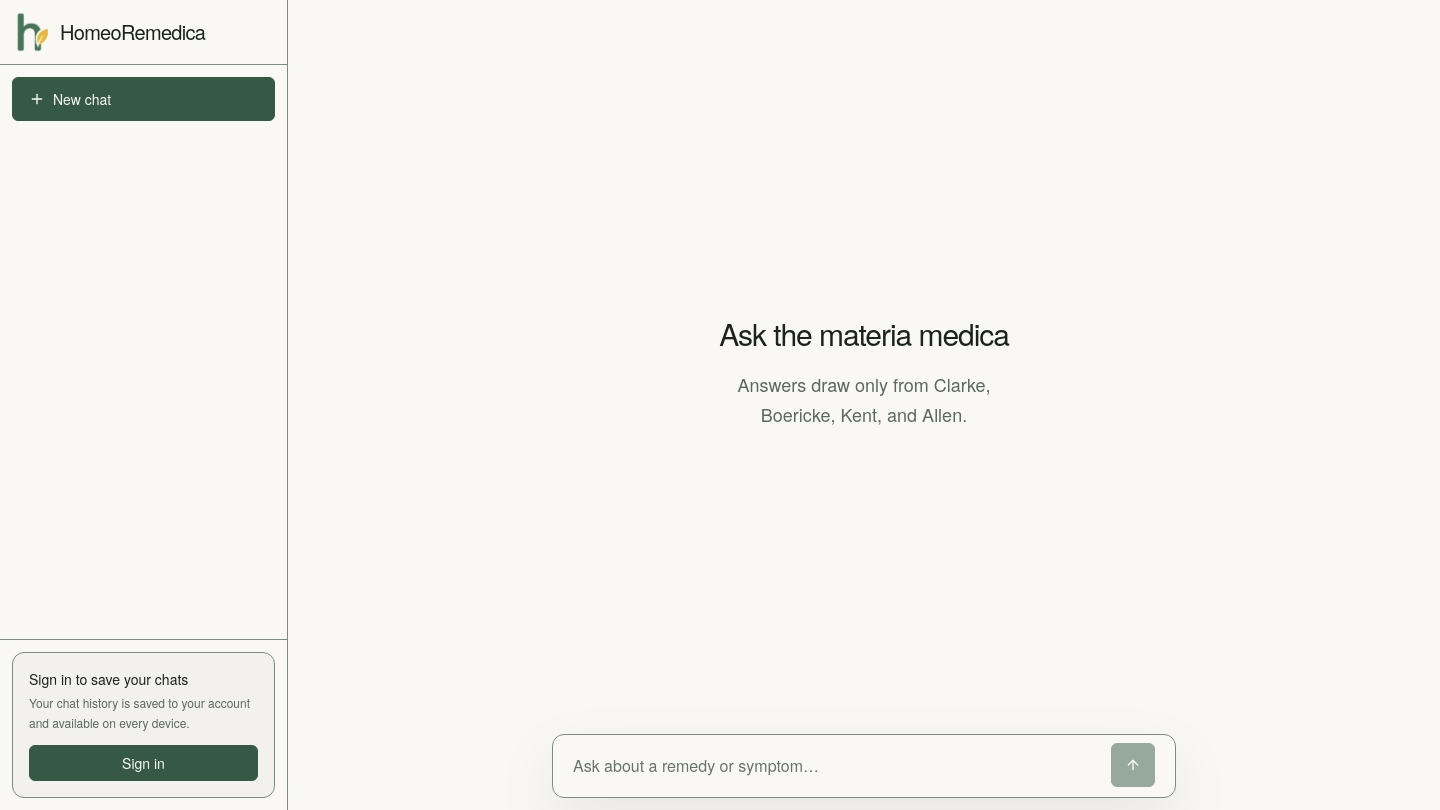
Test: ChatClient › restores the draft and shows an error when the request fails
Type "How is Nux vomica described?" into the text box named "Message" at (836, 766), box 573,743 -> 1099,789
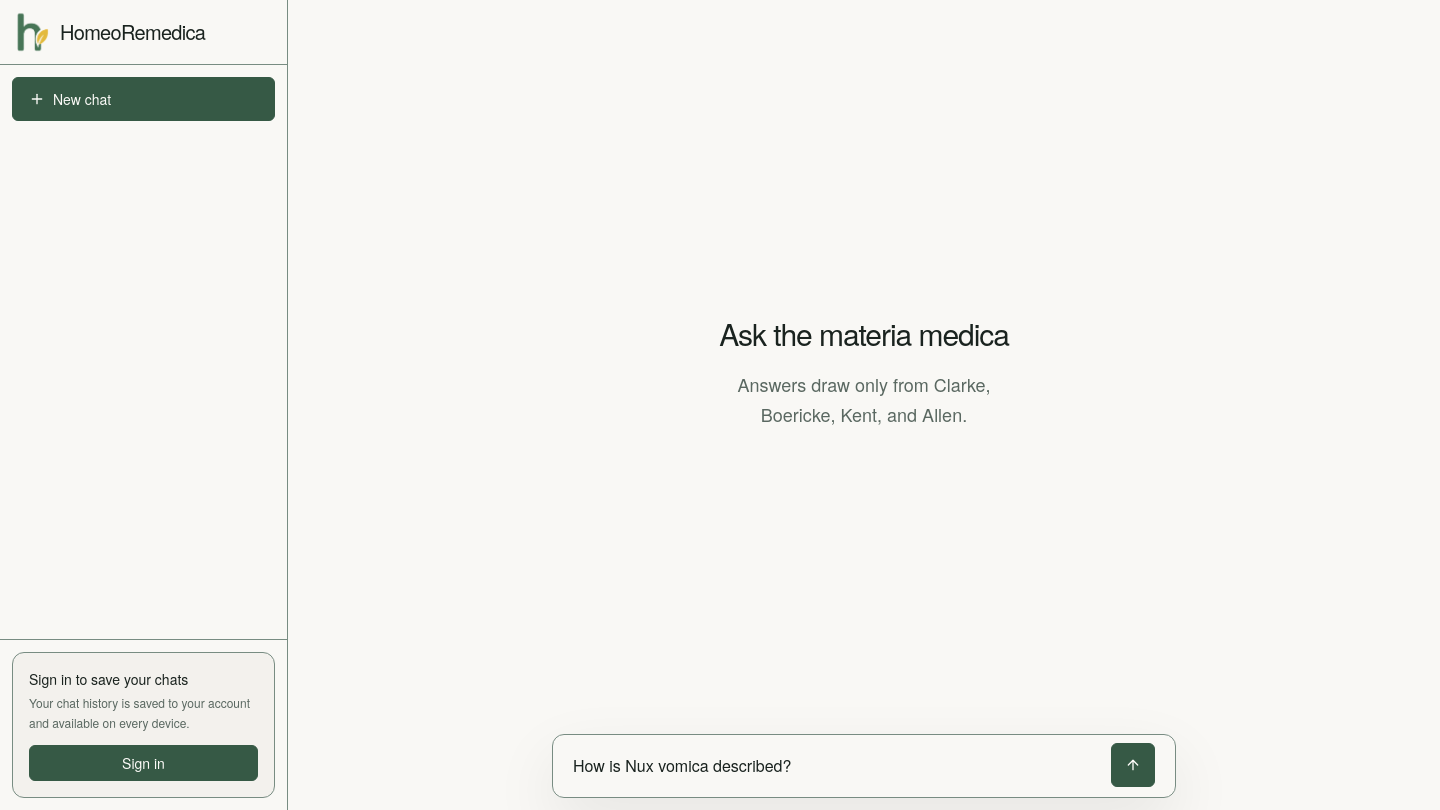
Click the button named "Send message" at (1133, 765), box 1111,743 -> 1155,787
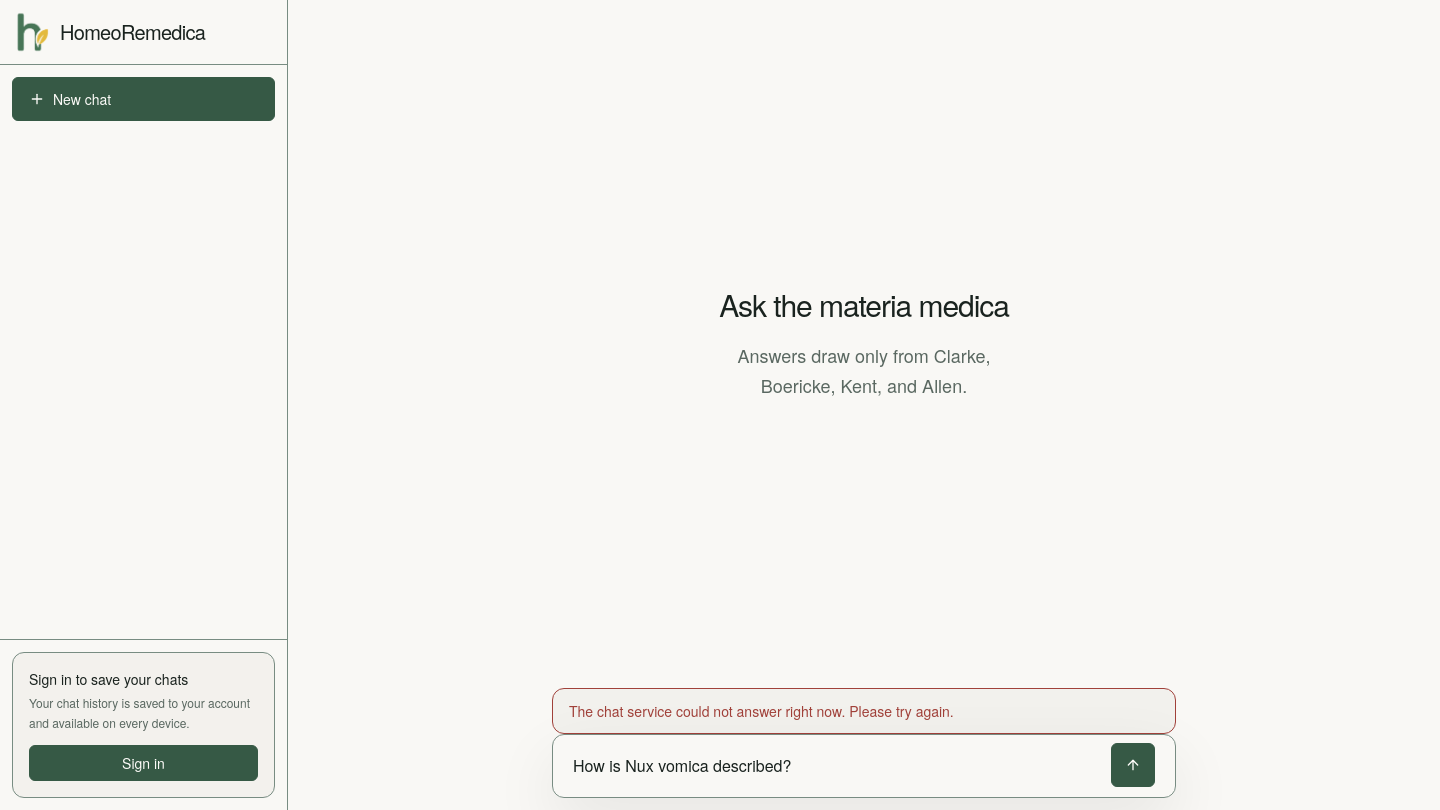
Now the text "The chat service could not answer right now. Please try again." is shown, box 569,701 -> 954,721
